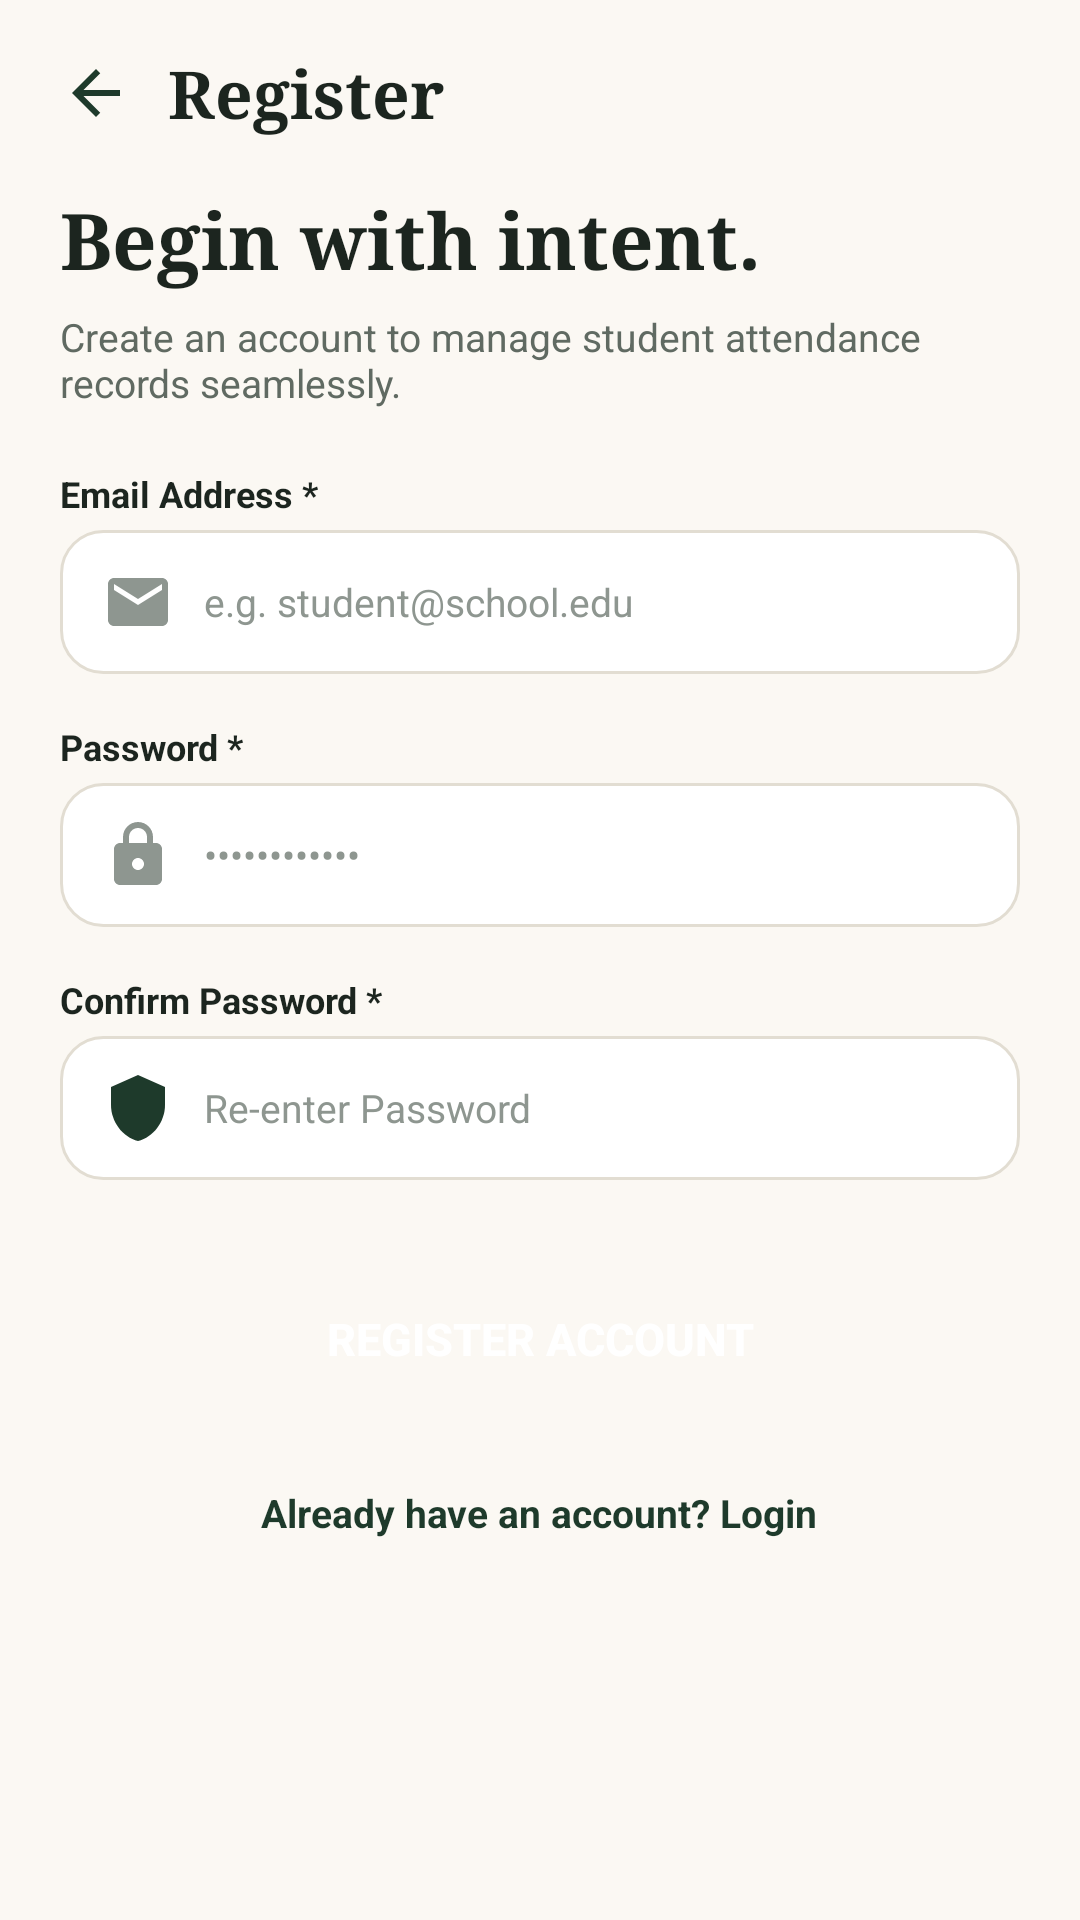

Icons on this 1080px x 1920px Android screen, each with its box as (x1, y1, x2, y2):
Back: (72, 69, 120, 117)
